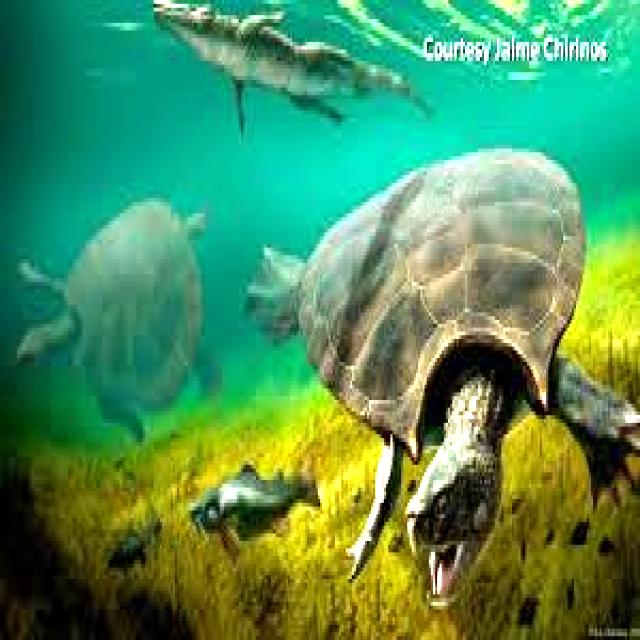Sea turtle: (236, 113, 640, 612)
